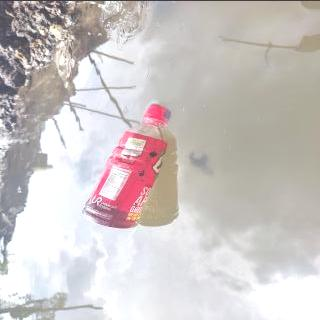bottle: (78, 102, 174, 230)
